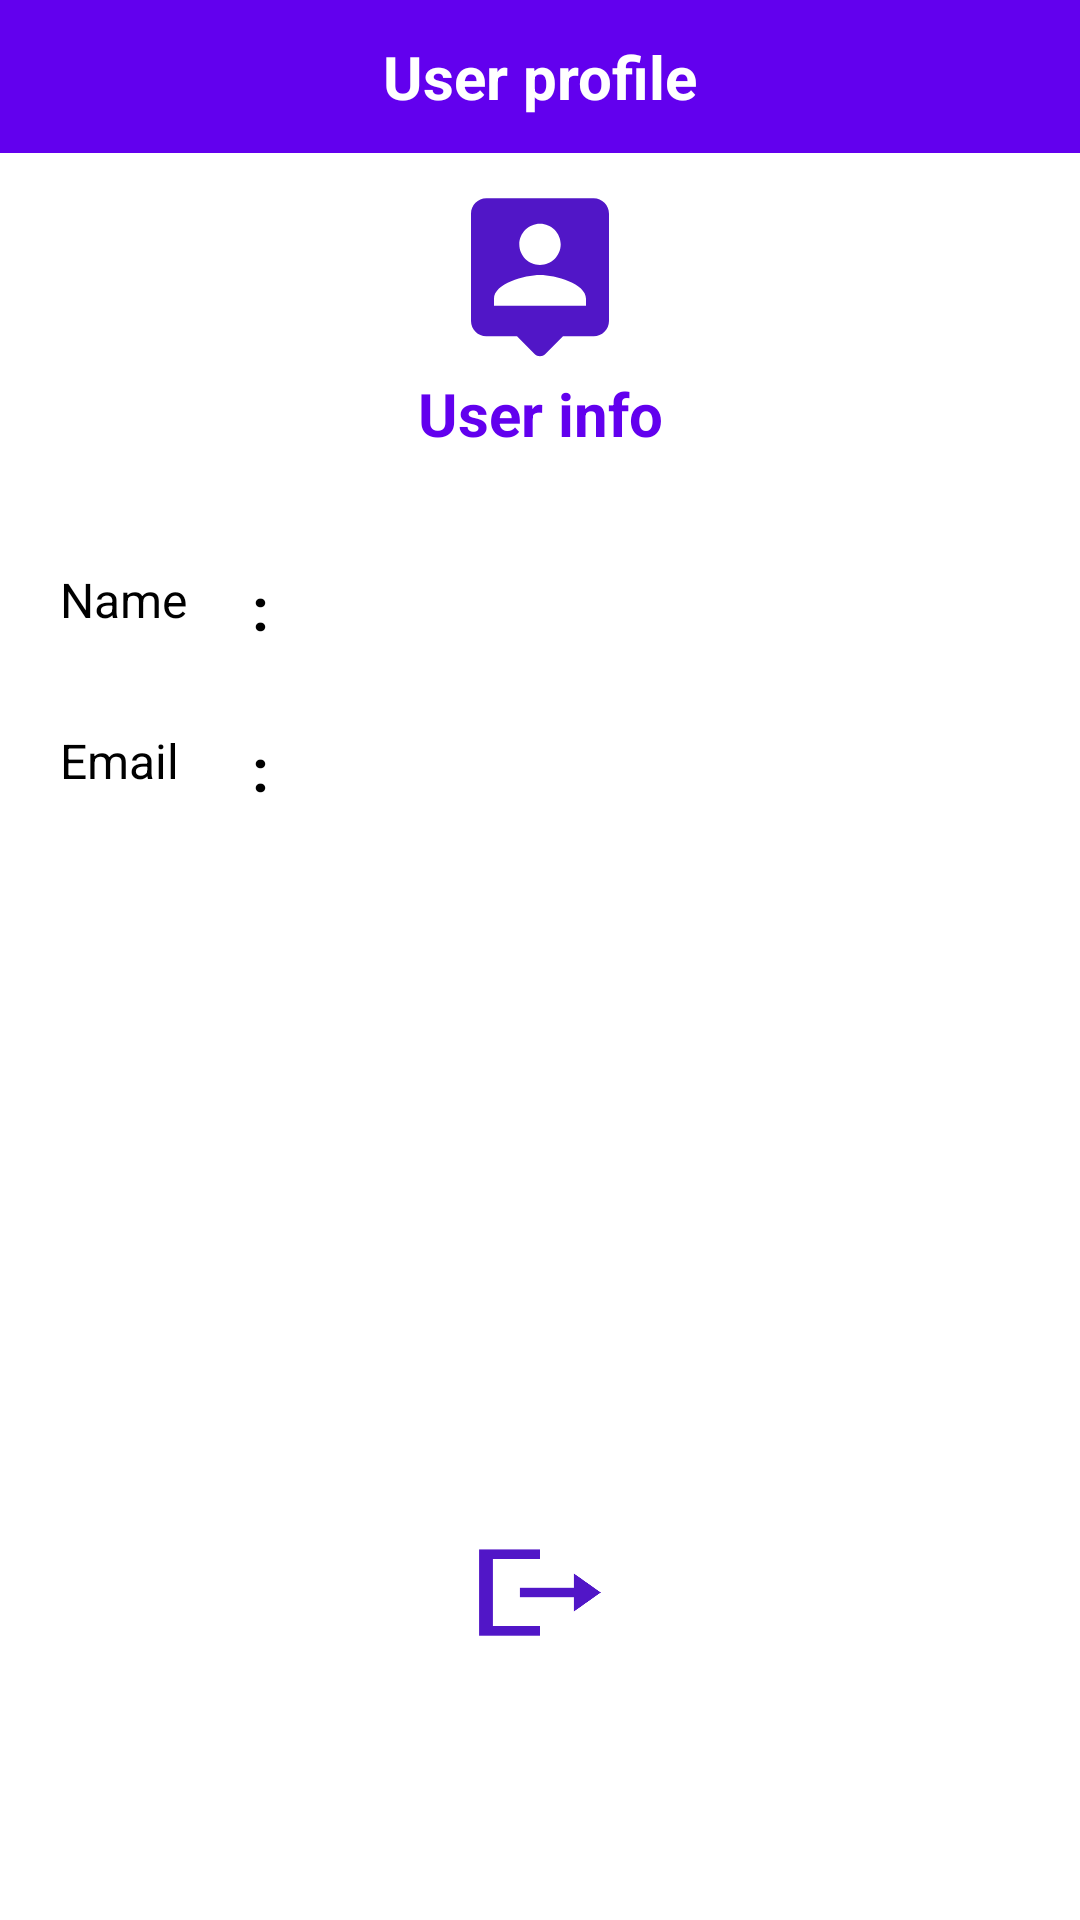

Point at icon controls on the screen. Image size 1080*1920, points as (x=x, y=y).
person pin: (x=540, y=277)
